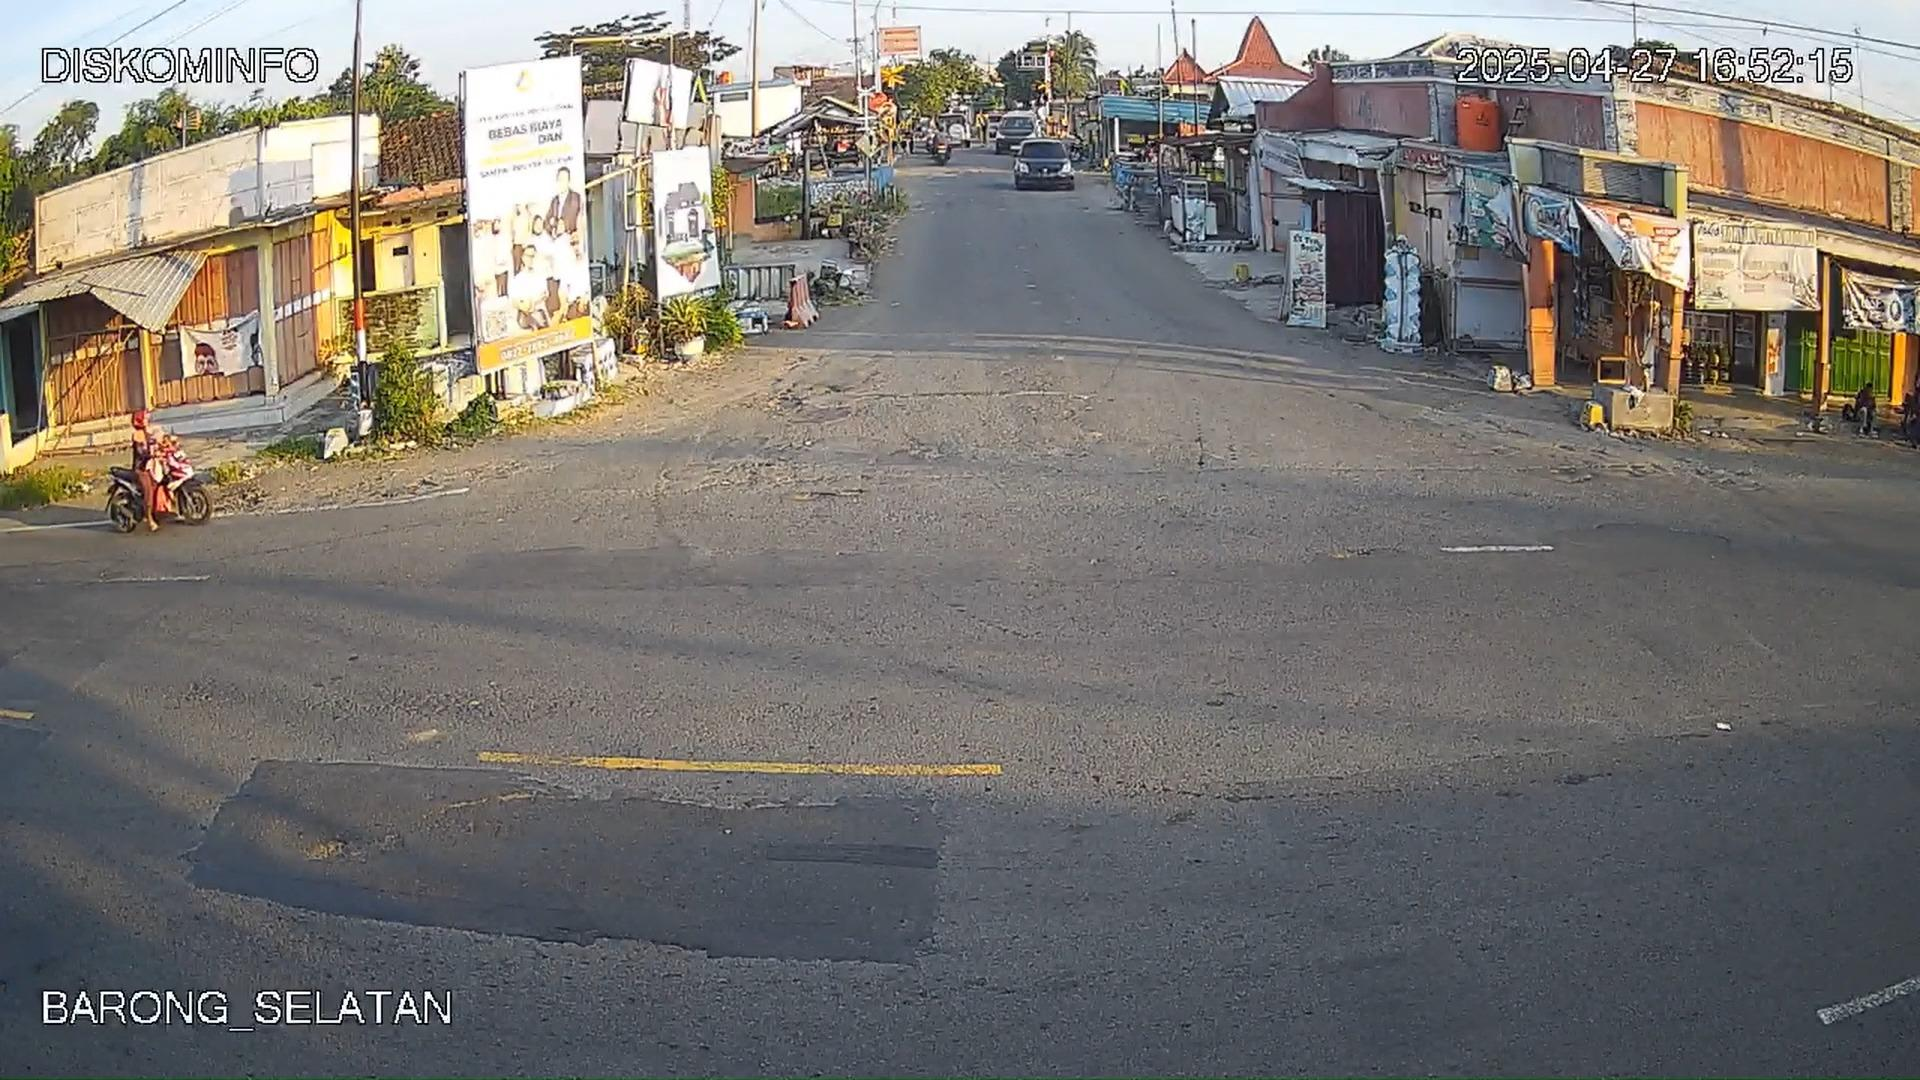Motor: (105, 455, 215, 534)
mobil: (1011, 138, 1075, 193)
